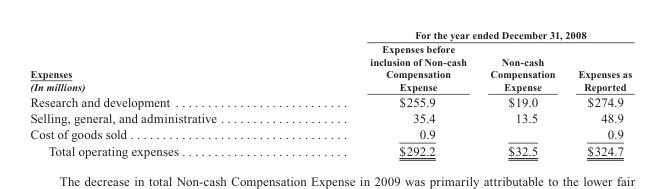table: (29, 28, 631, 157)
table column: (29, 28, 292, 157), (292, 28, 477, 157), (477, 28, 565, 157), (565, 28, 631, 157)
table column header: (29, 28, 631, 93)
table row: (29, 41, 631, 93), (29, 125, 631, 142), (29, 93, 631, 109), (29, 109, 631, 125), (29, 142, 631, 157), (29, 28, 631, 41)
table spanning cell: (29, 28, 292, 93), (292, 28, 631, 41)
